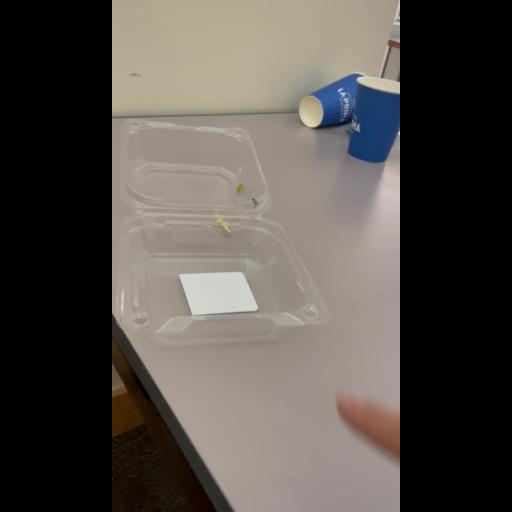lp_paper_cup: (346, 74, 400, 162), (298, 72, 368, 128)
small_plastic_container: (118, 126, 332, 338)
